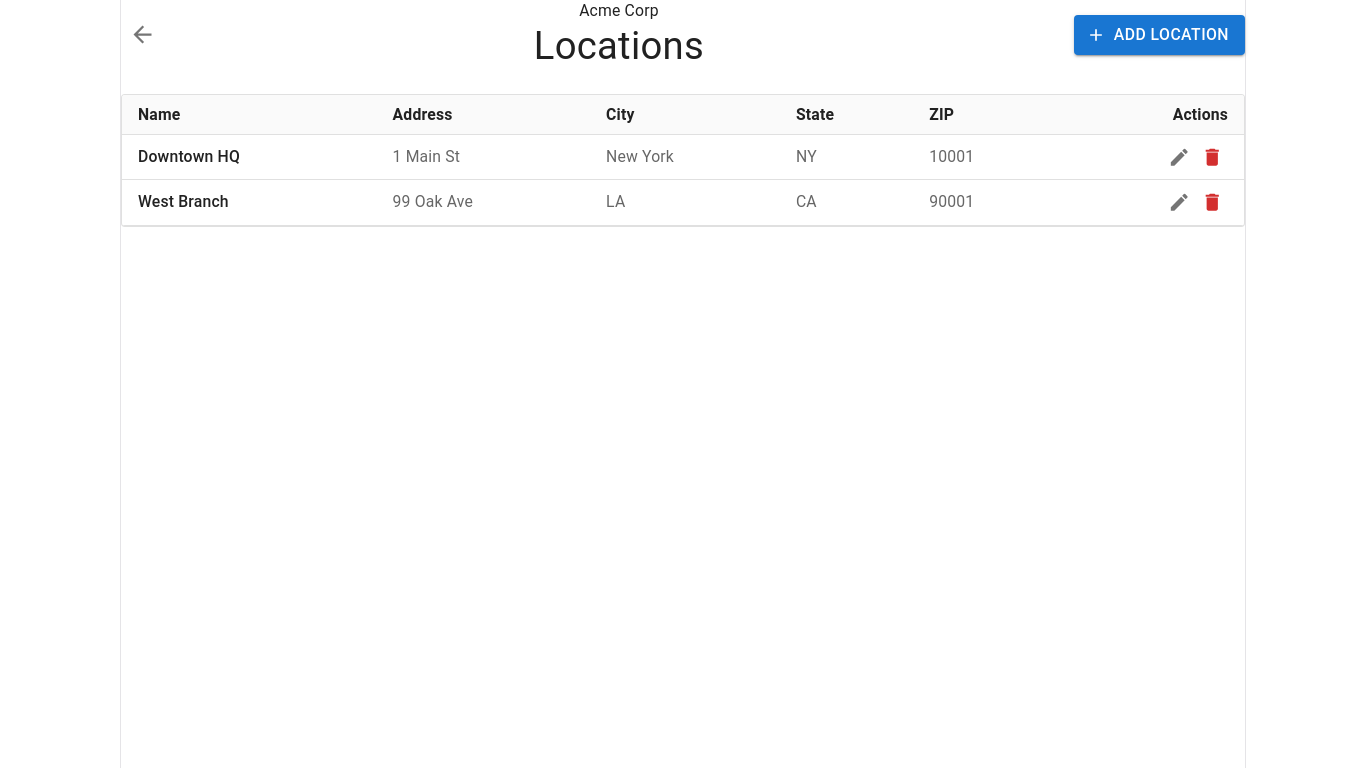
Test case: LocationsPage › rejects a duplicate location name within the same org
Expected: the text "Downtown HQ" is shown, [122, 134, 377, 180]
Step 1. Click the button "Add Location" → (1159,35), box [1074, 15, 1245, 55]
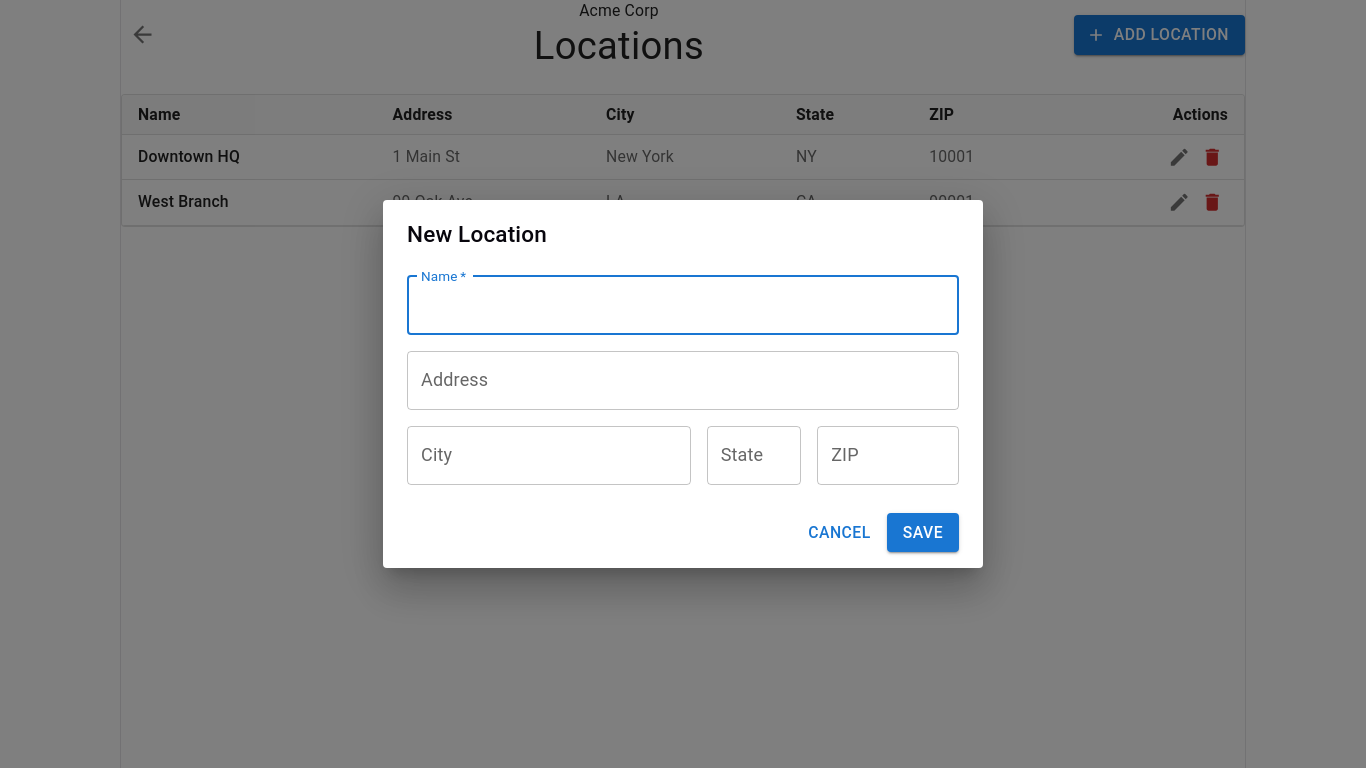
Step 2. Type "Downtown HQ" into the field labelled "Name *" → (683,305), box [407, 276, 959, 335]
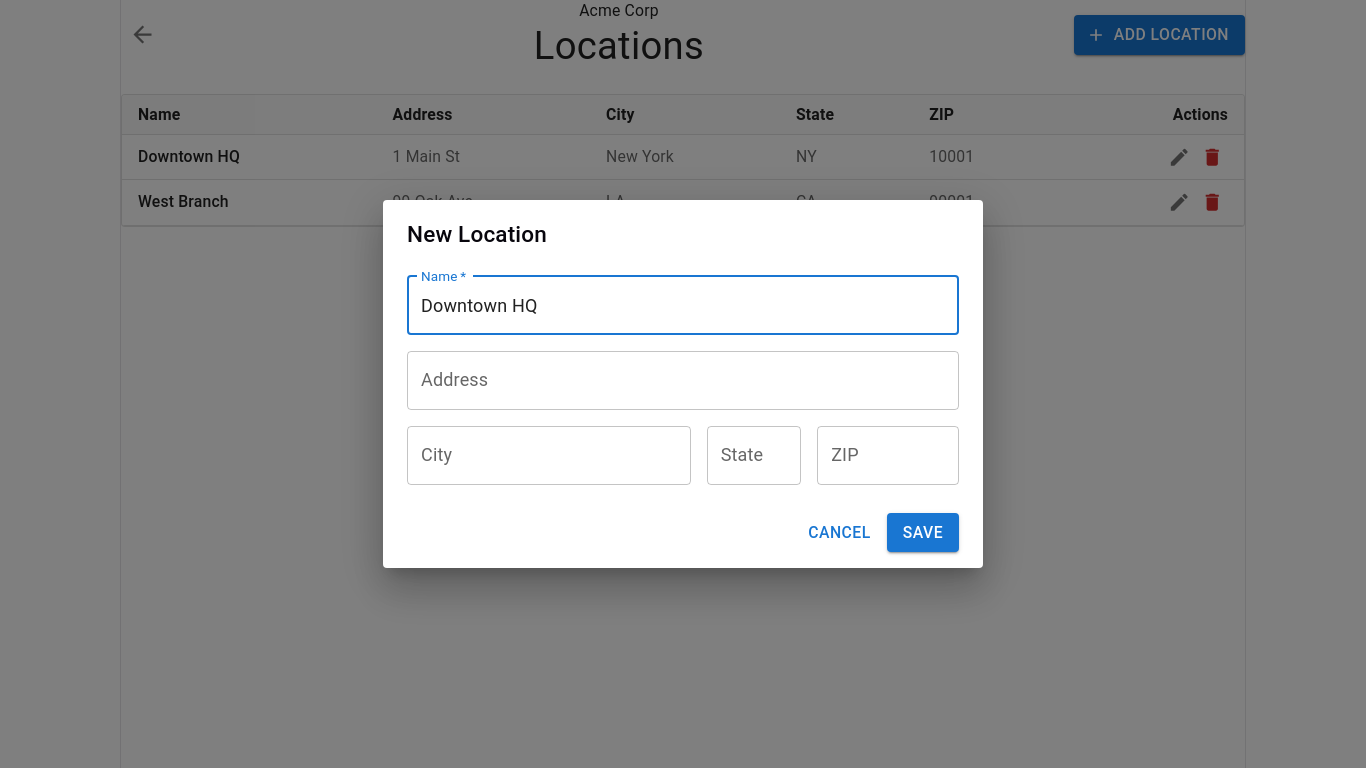
Step 3. Click the button "Save" → (923,532), box [887, 512, 959, 552]
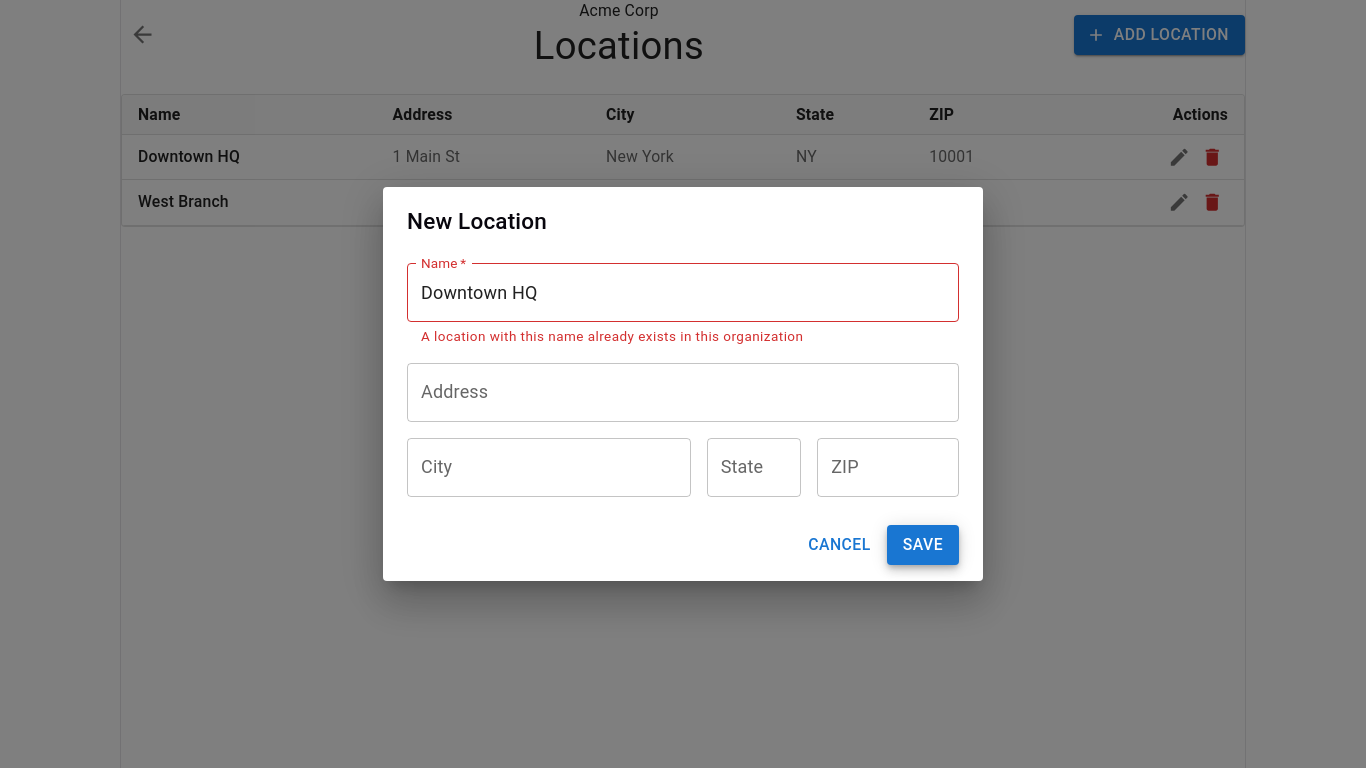
Expected: the text "already exists" is shown, [421, 328, 803, 344]
